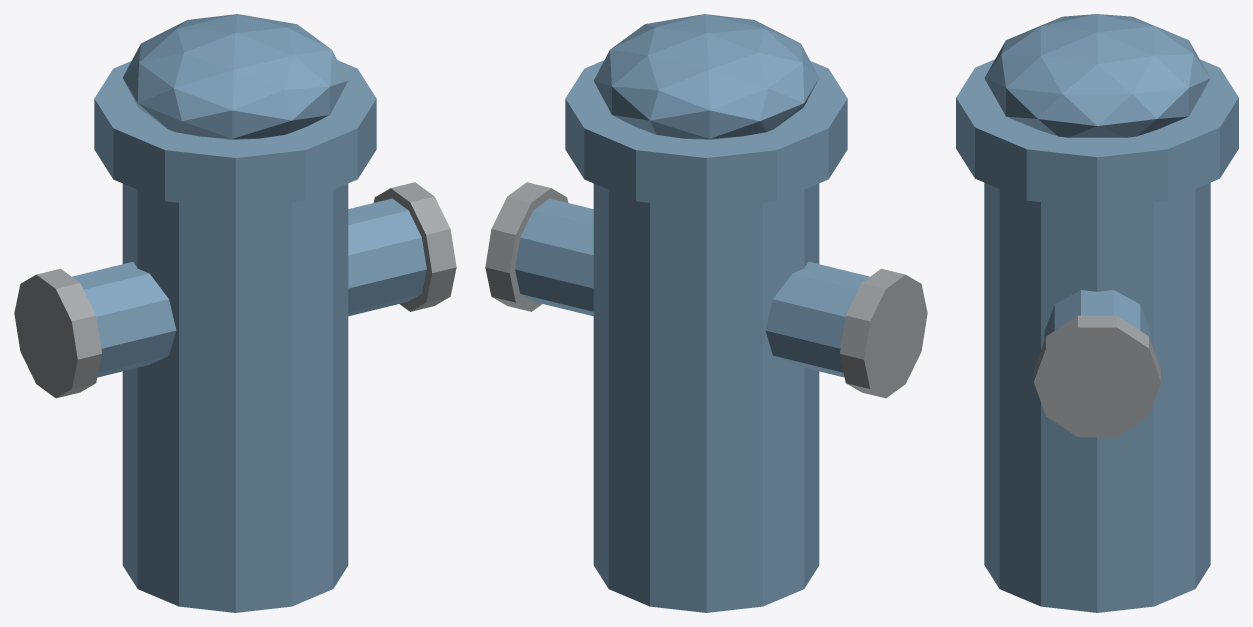
The model's file is hydrant_02.glb.
3 renders of one model, left to right at view 1: azimuth 30°, elevation 25°; view 2: azimuth 150°, elevation 25°; view 3: azimuth 270°, elevation 25°, orthographic.
Parts seen in each view (by area): view 1: body, top, dome, cap-1, arm-1, arm1, cap1; view 2: body, top, dome, cap-1, arm-1, arm1, cap1; view 3: body, top, dome, cap1, arm1.
Part boxes in pixels (box(x1,y1,x2,y2)): body: box(122, 183, 348, 612); top: box(94, 60, 376, 209); dome: box(123, 14, 348, 139); cap-1: box(14, 268, 102, 398); arm-1: box(72, 262, 176, 377); arm1: box(348, 198, 426, 316); cap1: box(373, 182, 456, 311); body: box(593, 183, 819, 612); top: box(565, 60, 847, 209); dome: box(593, 14, 818, 139); cap-1: box(839, 268, 927, 398); arm-1: box(765, 262, 869, 377); arm1: box(515, 198, 593, 316); cap1: box(485, 182, 568, 311); body: box(984, 182, 1210, 612); top: box(956, 59, 1238, 208); dome: box(984, 14, 1210, 137); cap1: box(1034, 315, 1160, 437); arm1: box(1044, 290, 1150, 340).
Bounding box in the file's own units: 0.62 × 0.832 × 0.4.
